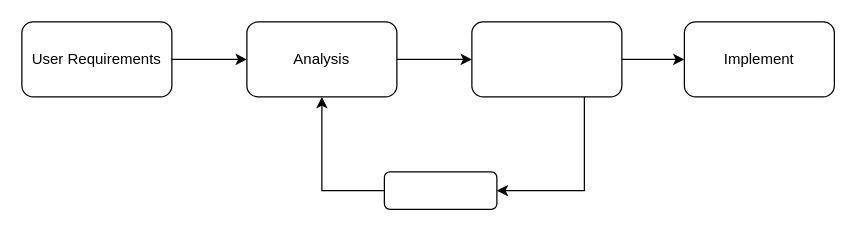
Some shapes in this 856 by 231 pixel diagram are drawn without their labels. The box of each missing label's shape, as (x1, y1, x2, y2) in pixels:
Design: (471, 21, 622, 97)
Prototype: (383, 171, 497, 209)
